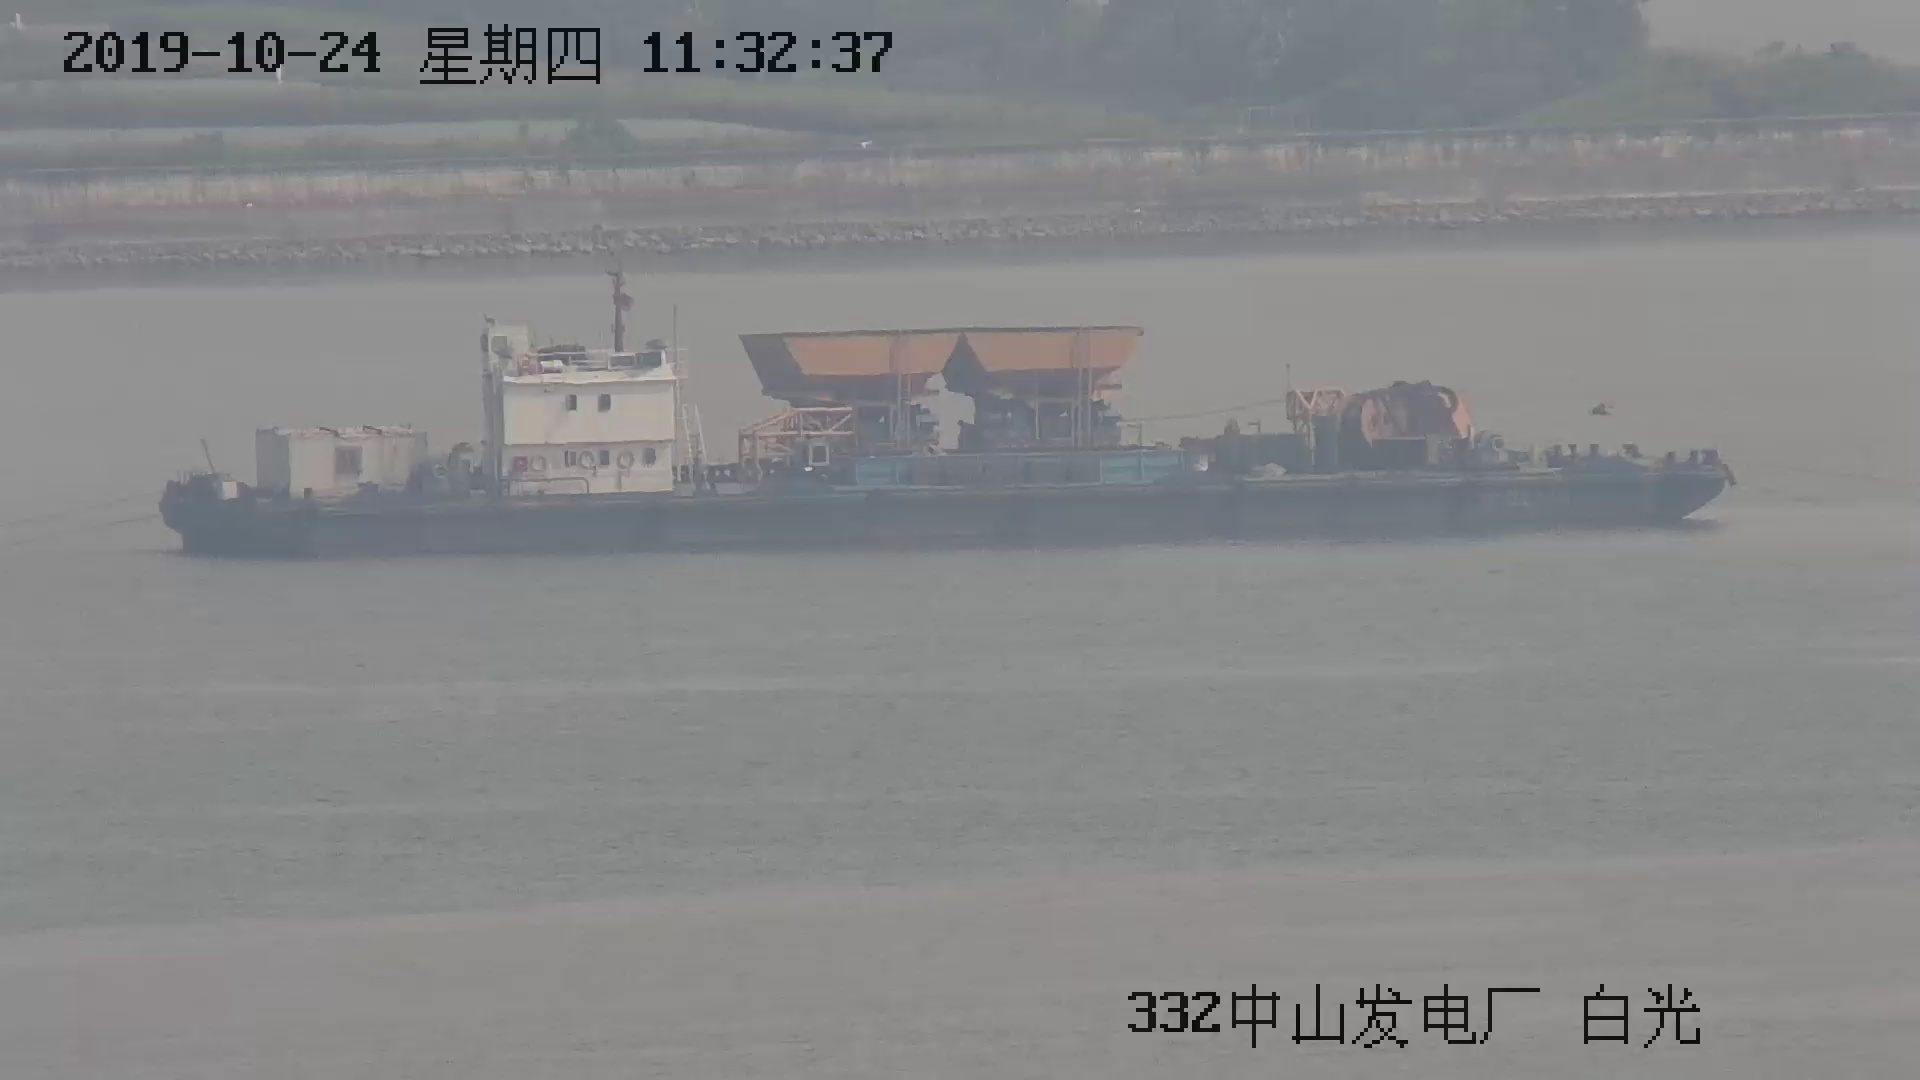ship: (142, 318, 1727, 559)
